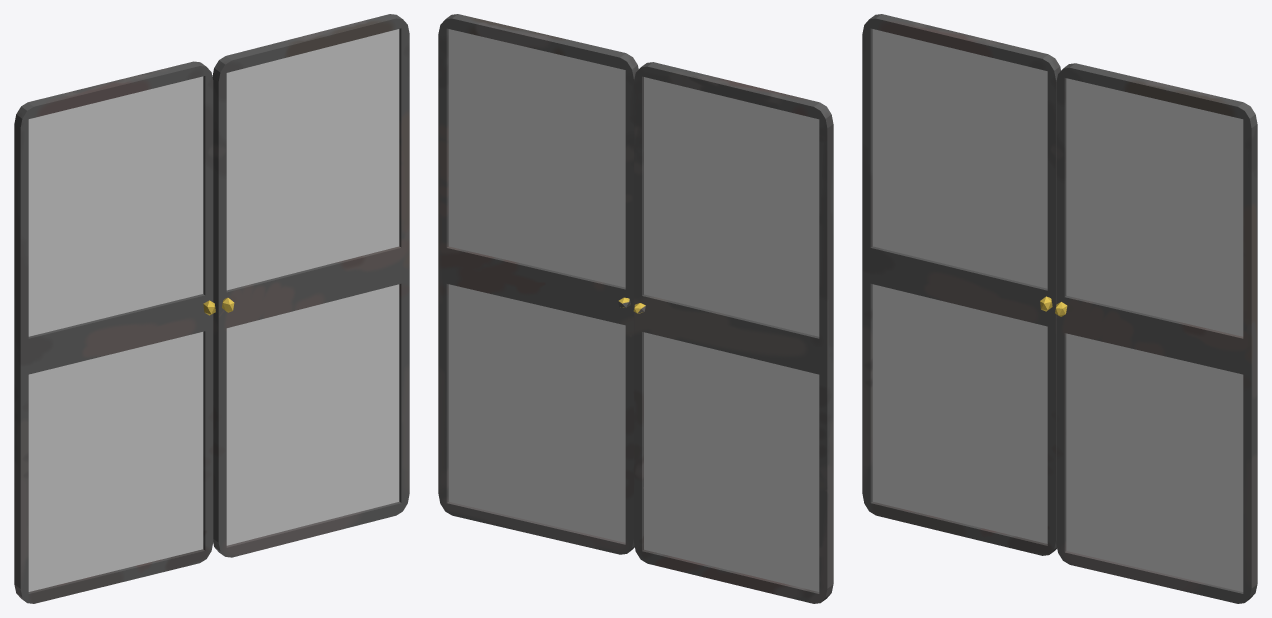
Rendered from puertaRestaurante.fbx.
The picture shows the model from 3 angles, left to right: view 1: azimuth 30°, elevation 25°; view 2: azimuth 150°, elevation 25°; view 3: azimuth 330°, elevation 25°; orthographic projection.
Visible parts, largest first — view 1: Cube.017, Cube.024; view 2: Cube.017, Cube.024; view 3: Cube.024, Cube.017.
Part boxes in pixels (x1,y1,x2,y2): Cube.017: [14, 61, 215, 603]; Cube.024: [212, 14, 409, 557]; Cube.017: [633, 62, 833, 603]; Cube.024: [438, 14, 638, 554]; Cube.024: [1055, 63, 1257, 603]; Cube.017: [862, 14, 1060, 555].
Bounding box in the file's own units: 1.8 × 0.1638 × 2.2.
Materials: 2 (1 with a texture image).
